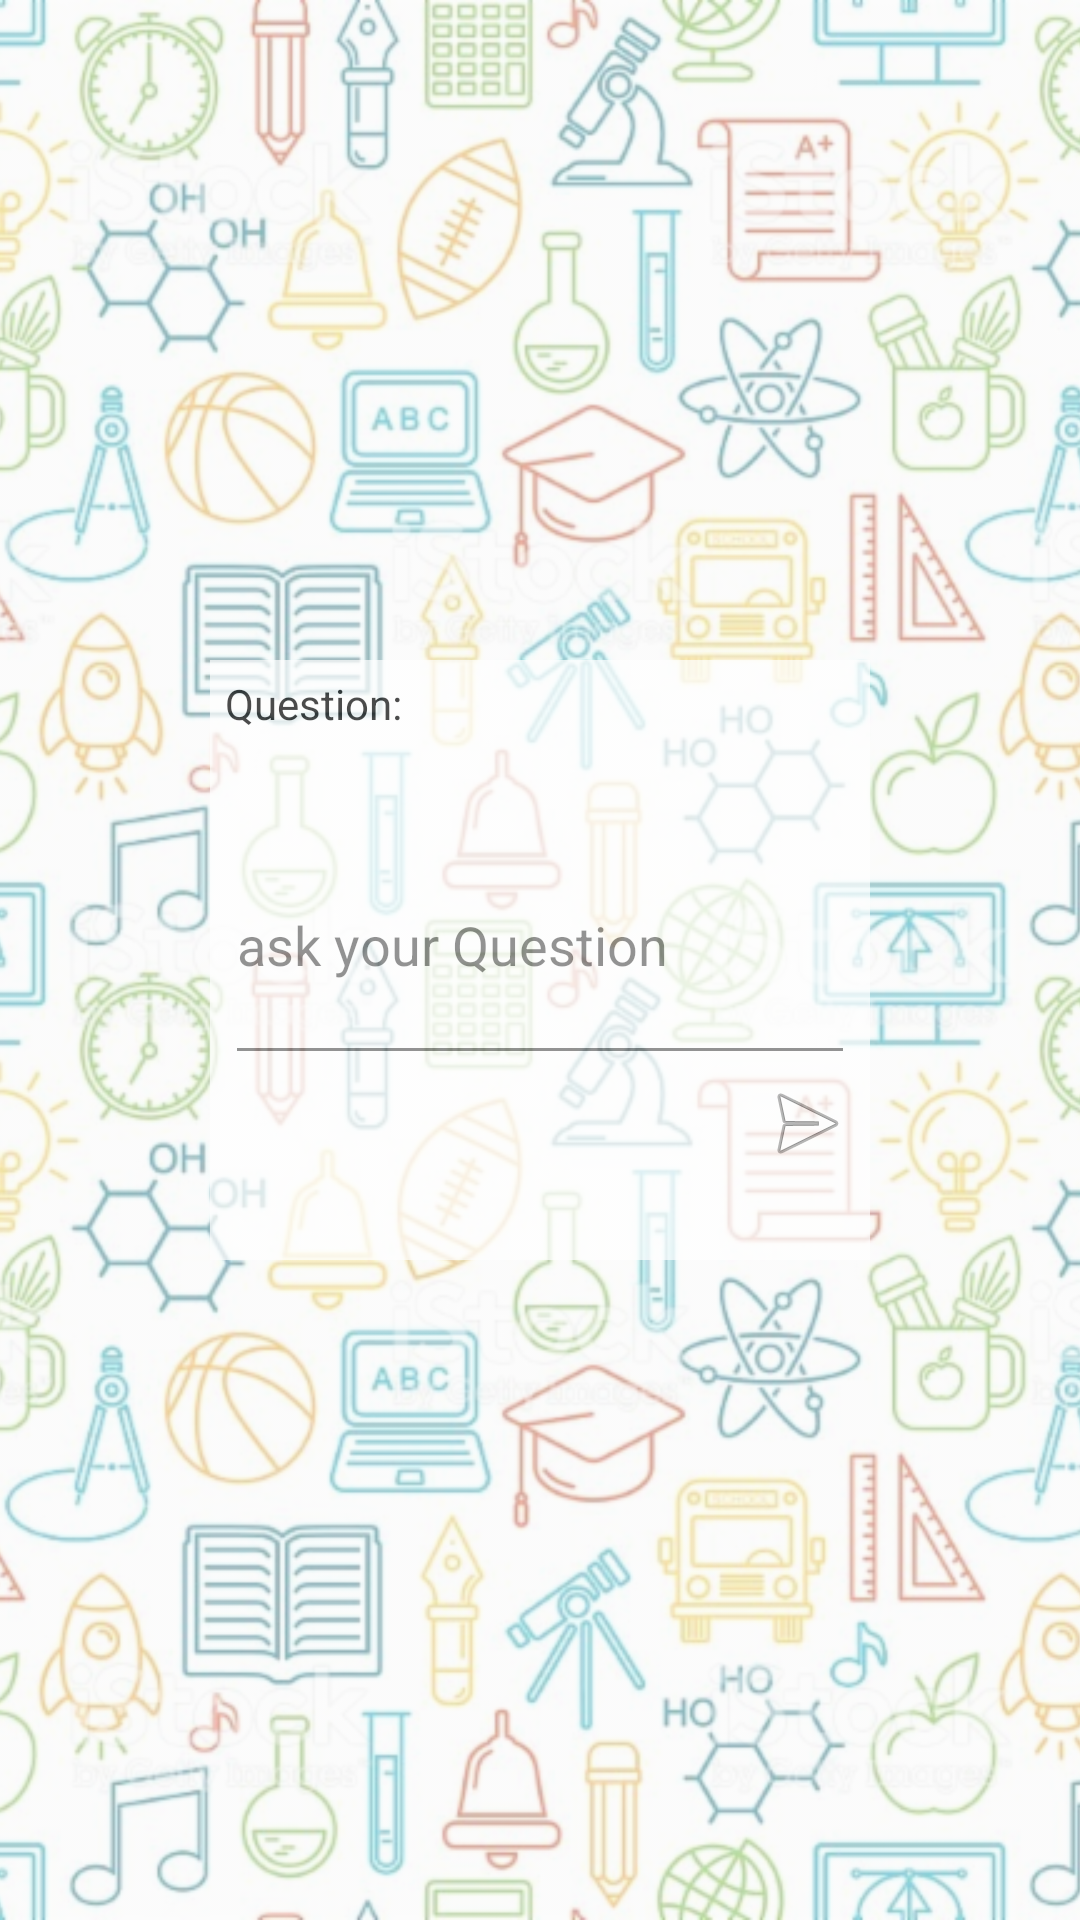

Locate icon controls on the screen. Image size 1080*1920, boxes as [x1=x1, y1=y1, x2=x2, y2=y2].
Image Button Send: [x1=777, y1=1081, x2=849, y2=1154]
